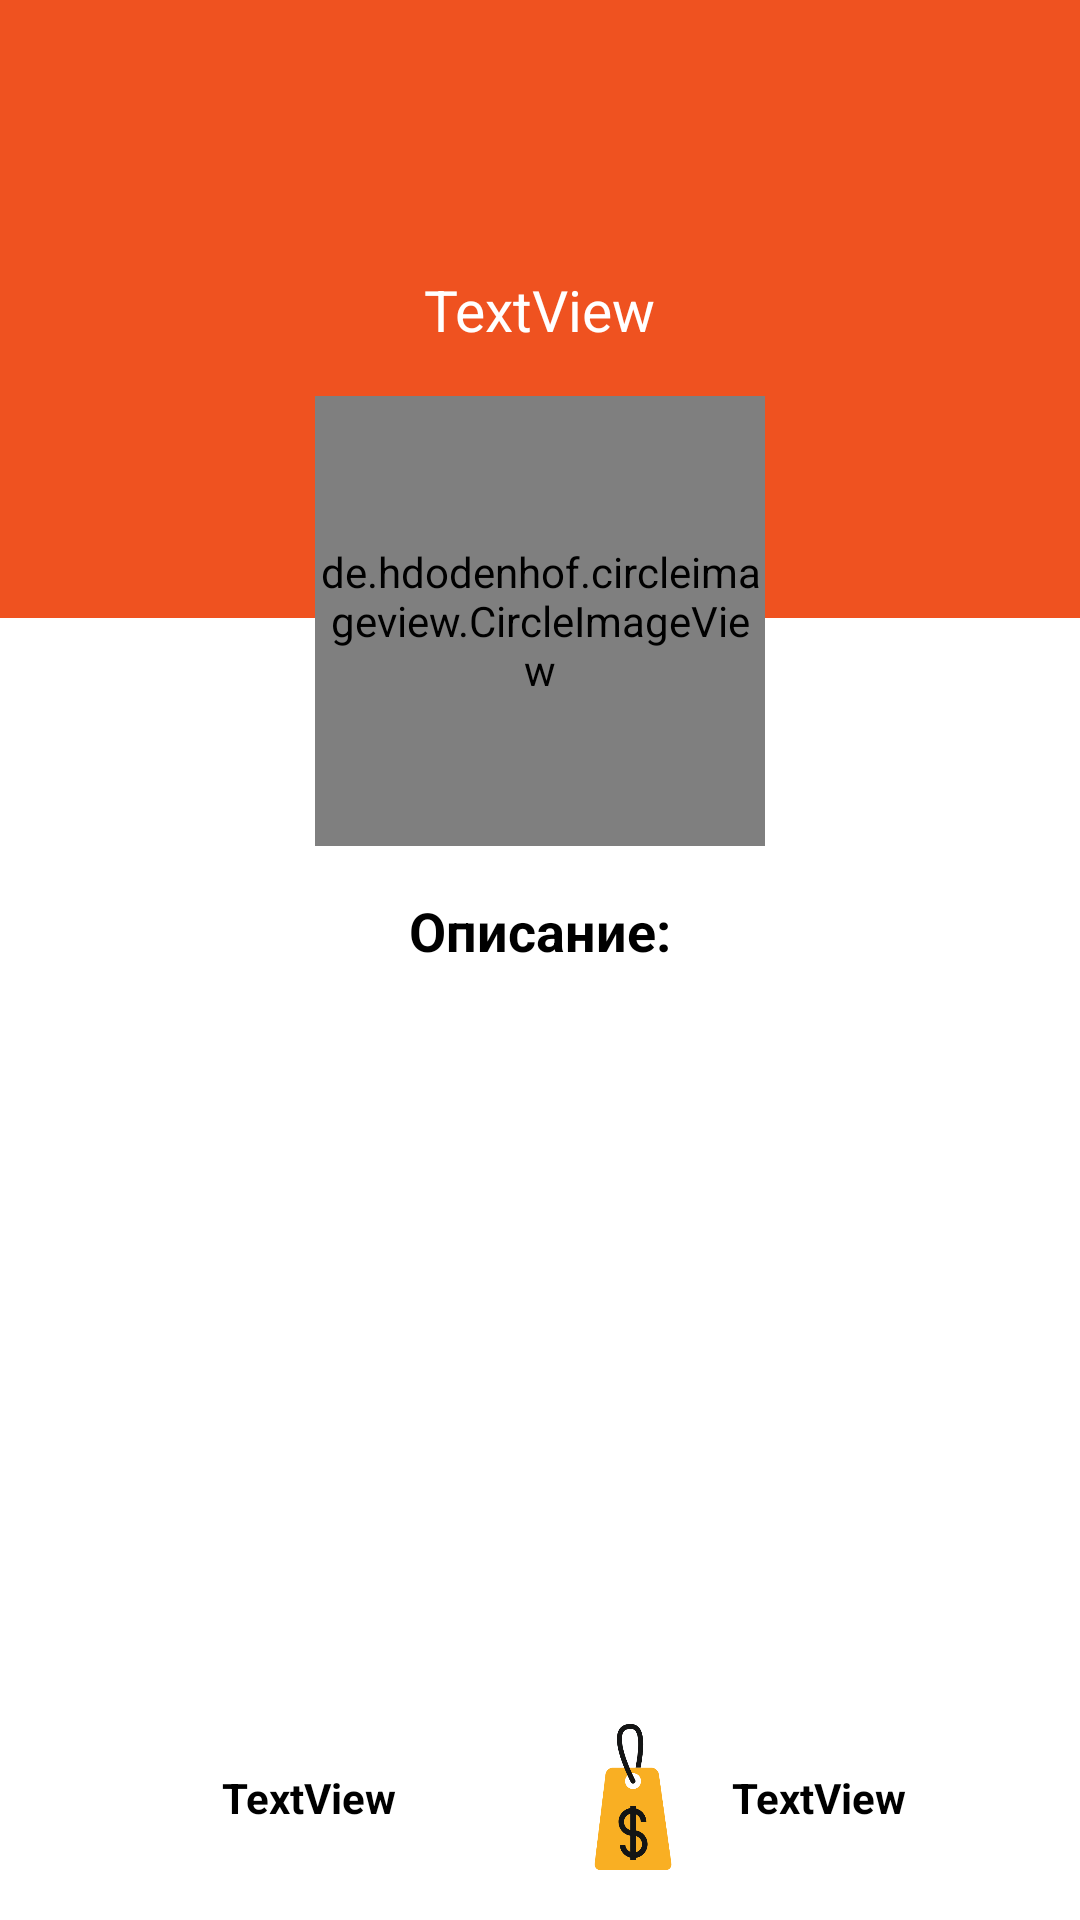

Where to tap for icons on this 1080px×1920px app screen, as [x,y]:
price: [633,1797]
